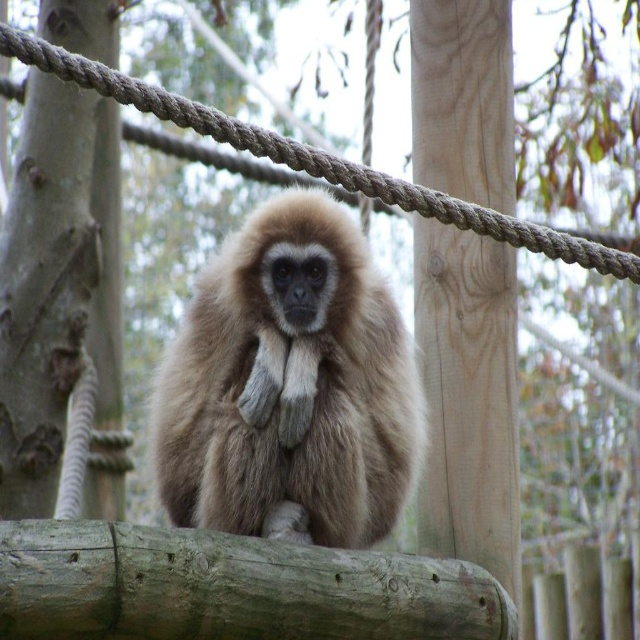Monkey: (140, 179, 433, 553)
